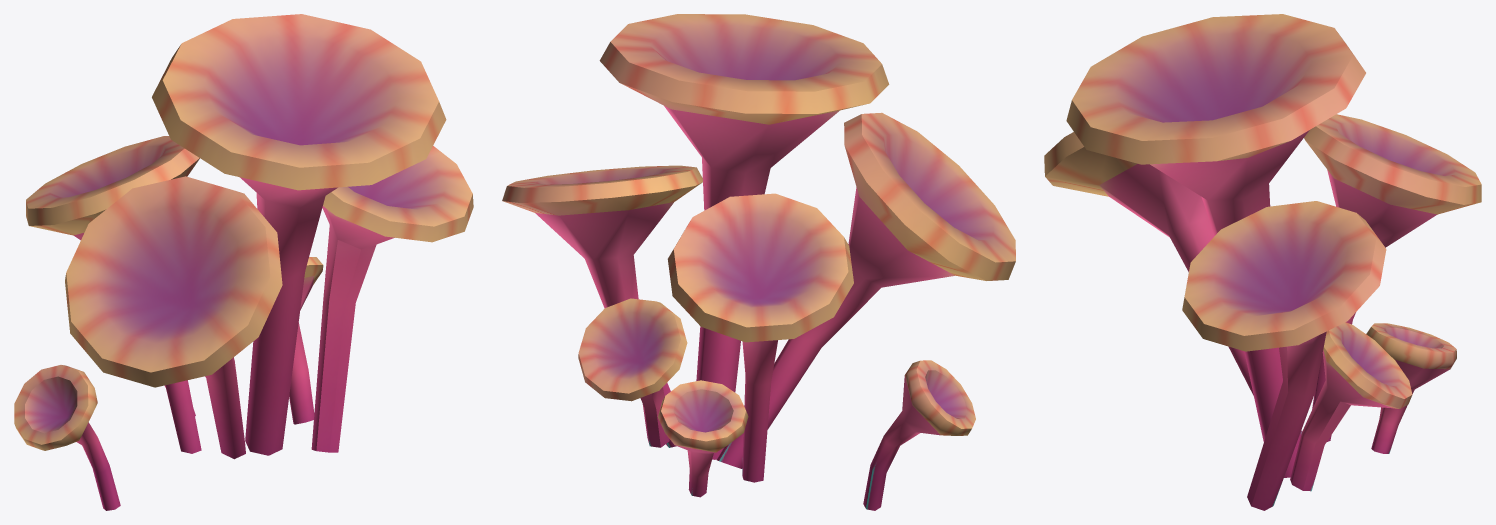
Rendered from Avatar_plant_05.fbx.
3 views of the same model, side by side, from view 1: azimuth 30°, elevation 25°; view 2: azimuth 150°, elevation 25°; view 3: azimuth 270°, elevation 25° (orthographic). The views are drawn at different scales.
Parts seen in each view (by area): view 1: Avatar_plant_05; view 2: Avatar_plant_05; view 3: Avatar_plant_05.
Boxes of the visible parts, bbox=[...] form: Avatar_plant_05: bbox=[14, 14, 473, 510]; Avatar_plant_05: bbox=[502, 14, 1015, 510]; Avatar_plant_05: bbox=[1044, 14, 1481, 510].
Size of the model in its own units: 101 by 91.05 by 82.81.
